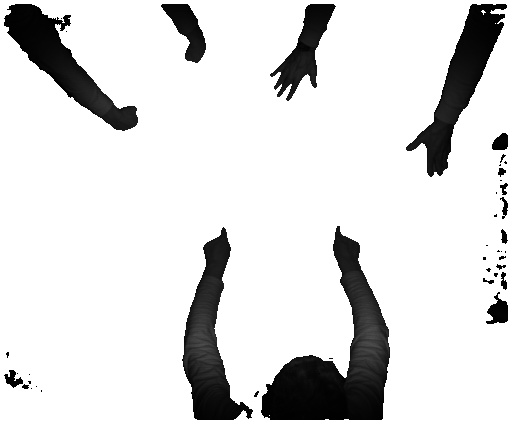fist: (113, 104, 143, 135), (184, 41, 207, 63)
hand: (400, 128, 455, 183), (264, 52, 319, 103), (328, 224, 366, 266), (200, 224, 231, 268)
